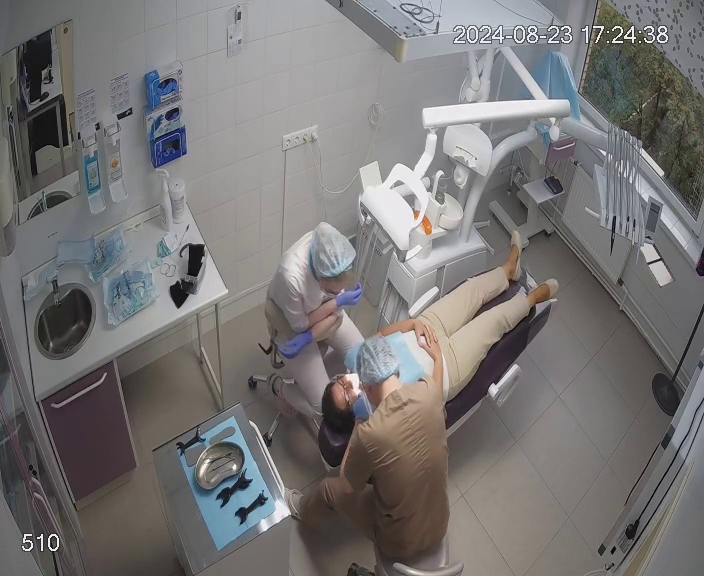Patient: (319, 229, 560, 469)
